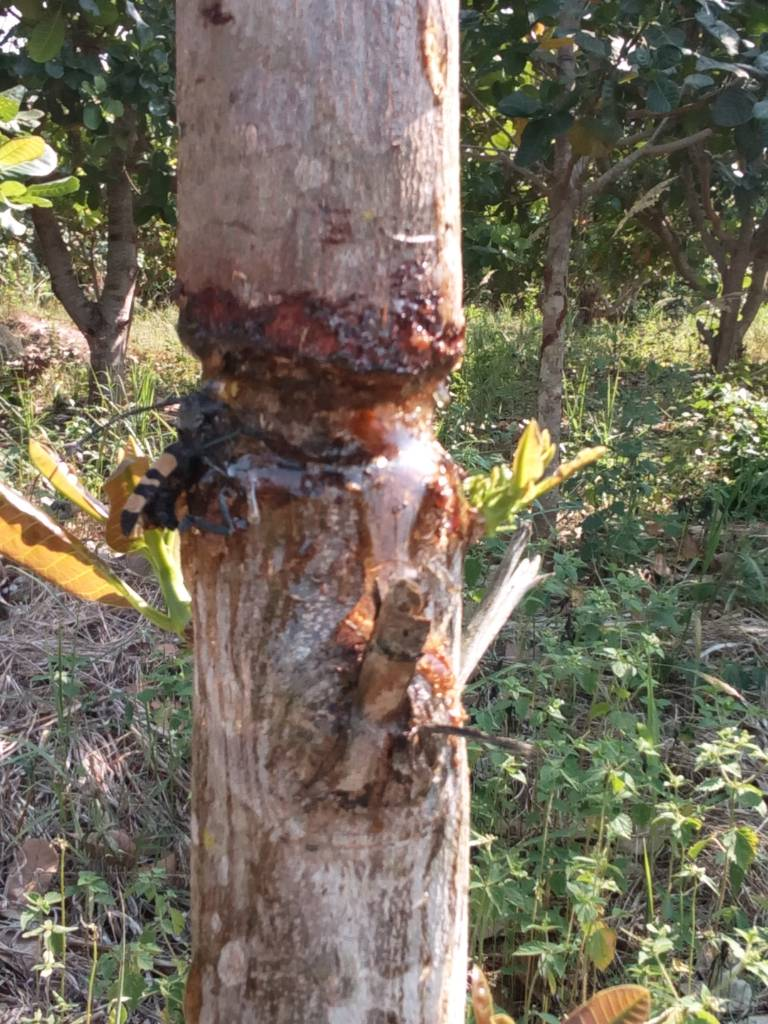Analepse trifasciata: (149, 275, 466, 507)
